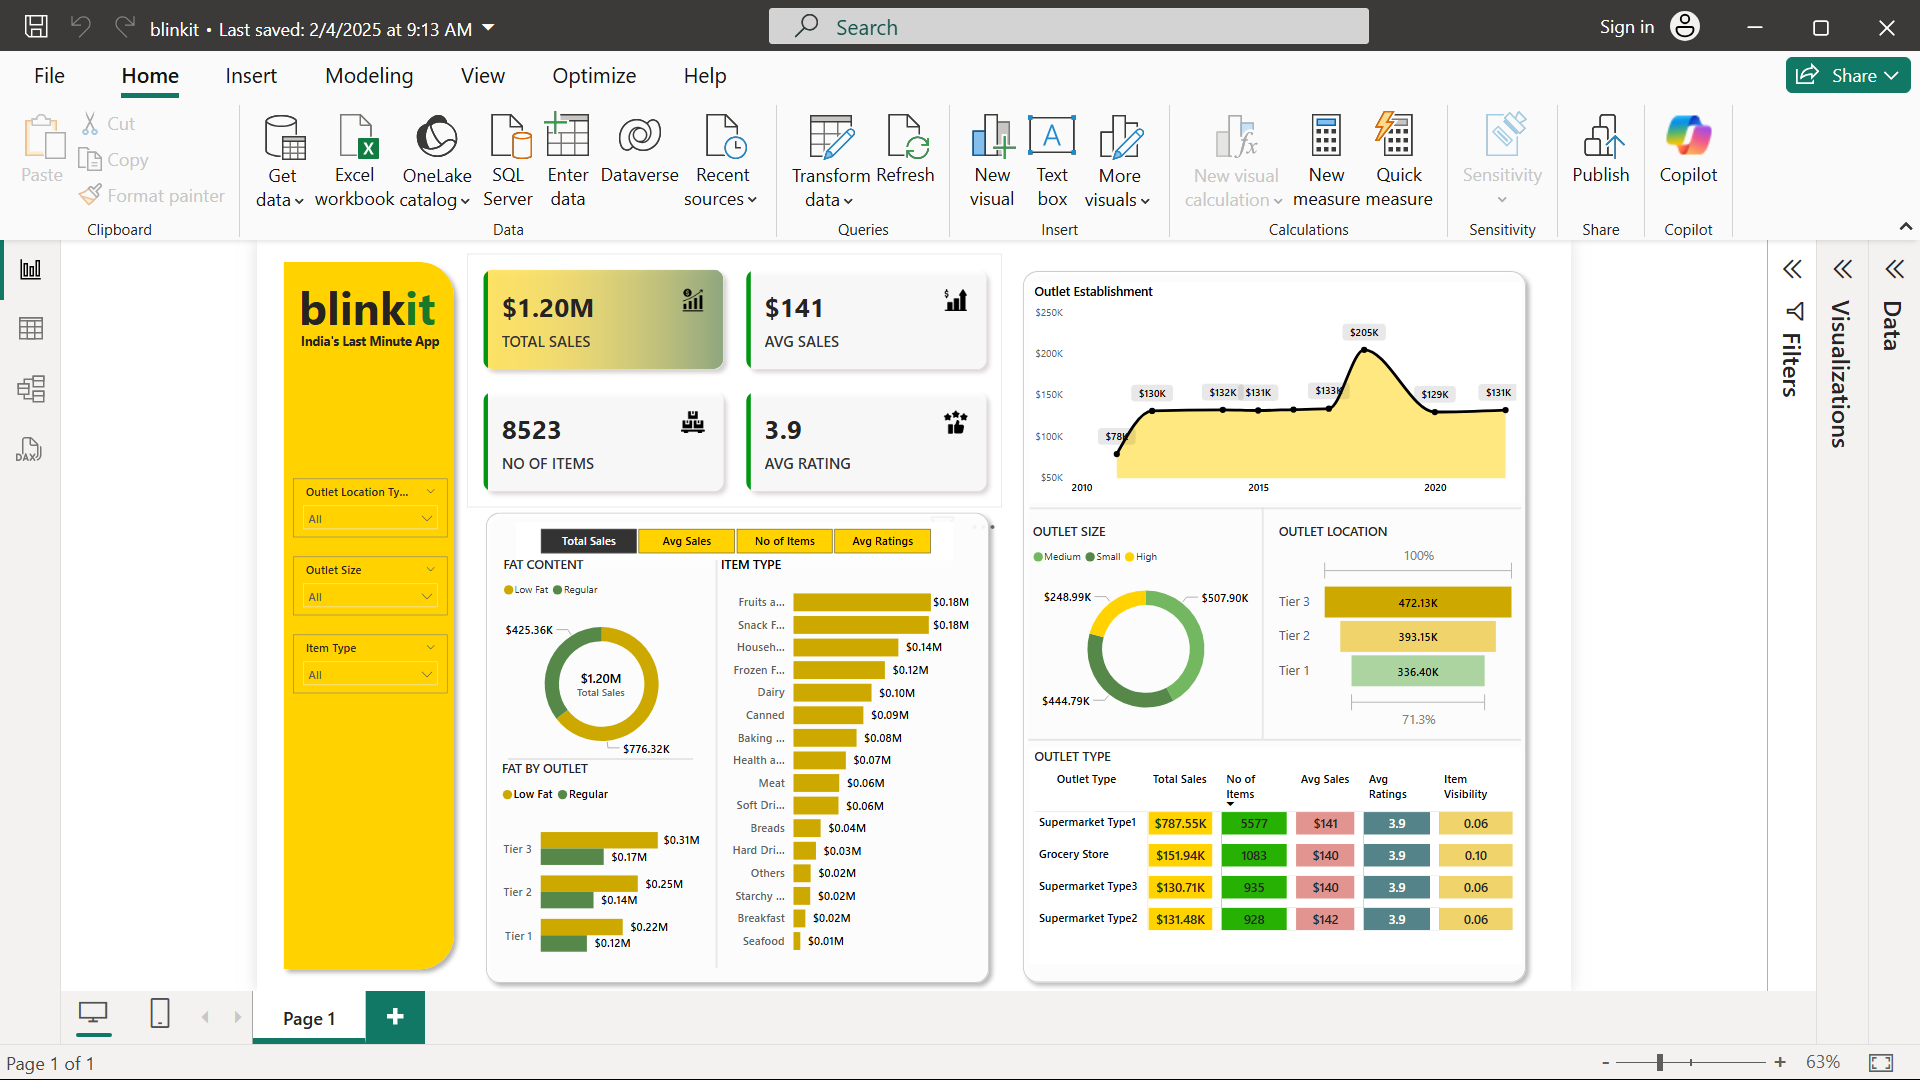

This screenshot's page, from the dashboard's own definition file:
{"tool":"powerbi","page":{"name":"Page 1","canvas":[1400,800],"ordinal":0},"visuals":[{"type":"shape","box":[19.5,15,199.6,771.4],"z":0},{"type":"textbox","box":[28.5,33,177.1,79.5],"z":1000},{"type":"textbox","box":[18,93.1,205.6,31.5],"z":2000},{"type":"cardVisual","fields":{"Data":["BlinkIT Grocery Data.m Total Sales","BlinkIT Grocery Data.m Avg Sales","BlinkIT Grocery Data.m No of Items","BlinkIT Grocery Data.m Avg Ratings"]},"box":[223.6,15,570.3,270.2],"z":3000},{"type":"shape","box":[235.6,280.7,553.8,519.3],"z":4000},{"type":"donutChart","title":"FAT CONTENT","fields":{"Y":["BlinkIT Grocery Data.Total Sales"],"Category":["BlinkIT Grocery Data.Item Fat Content"]},"box":[256.6,336.2,219.1,229.6],"z":5000},{"type":"slicer","fields":{"Values":["Metrices.Metrices"]},"box":[276.2,300.2,465.3,40.5],"z":6000},{"type":"cardVisual","fields":{"Data":["BlinkIT Grocery Data.Total Sales"]},"box":[313.7,439.8,106.6,58.5],"z":7000},{"type":"clusteredBarChart","title":"FAT BY OUTLET","fields":{"Y":["BlinkIT Grocery Data.Total Sales"],"Category":["BlinkIT Grocery Data.Outlet Location Type"],"Series":["BlinkIT Grocery Data.Item Fat Content"]},"box":[256.3,553.5,220.9,230.4],"z":8000},{"type":"shape","box":[267.2,540.3,198.1,25.5],"z":9000},{"type":"shape","box":[474.3,340.7,30,435.3],"z":10000},{"type":"barChart","title":"ITEM TYPE","fields":{"Y":["BlinkIT Grocery Data.Total Sales"],"Category":["BlinkIT Grocery Data.Item Type"]},"box":[489.3,336.2,274.7,435.3],"z":11000},{"type":"shape","box":[807.5,24,553.8,775.9],"z":12000},{"type":"lineChart","title":" Outlet Establishment","fields":{"Category":["BlinkIT Grocery Data.Outlet Establishment Year"],"Y":["BlinkIT Grocery Data.Total Sales"]},"box":[822.5,45,523.8,235.6],"z":13000},{"type":"shape","box":[822.5,271.7,523.8,28.5],"z":14000},{"type":"donutChart","title":"OUTLET SIZE","fields":{"Y":["BlinkIT Grocery Data.Total Sales"],"Category":["BlinkIT Grocery Data.Outlet Size"]},"box":[821,300.2,250.6,225.1],"z":15000},{"type":"shape","box":[1058.1,285.2,27,247.6],"z":16000},{"type":"funnel","title":"OUTLET LOCATION","fields":{"Y":["Sum(BlinkIT Grocery Data.Sales)"],"Category":["BlinkIT Grocery Data.Outlet Location Type"]},"box":[1083.6,300.2,262.7,225.1],"z":17000},{"type":"shape","box":[821,511.8,525.3,42],"z":18000},{"type":"pivotTable","title":"OUTLET TYPE","fields":{"Rows":["BlinkIT Grocery Data.Outlet Type"],"Values":["BlinkIT Grocery Data.Total Sales","BlinkIT Grocery Data.No of Items","BlinkIT Grocery Data.Avg Sales","BlinkIT Grocery Data.Avg Ratings","Avg(BlinkIT Grocery Data.Item Visibility)"]},"box":[822.5,540.3,523.8,231.1],"z":19000},{"type":"slicer","fields":{"Values":["BlinkIT Grocery Data.Outlet Location Type"]},"box":[38.2,253.6,165,62.7],"z":19001},{"type":"slicer","fields":{"Values":["BlinkIT Grocery Data.Item Type"]},"box":[38.2,419.9,165,62.7],"z":19002},{"type":"slicer","fields":{"Values":["BlinkIT Grocery Data.Outlet Size"]},"box":[38.2,336.7,165,62.7],"z":19003}]}

Visuals, with their boxes on the page's 1400x800 design canvas (x1, y1, x2, y2). These are canvas units, not pixel positions in the 1920x1080 screenshot, which may show the page scaled, cropped or inside an application window:
shape: [x1=20, y1=15, x2=219, y2=786]
textbox: [x1=28, y1=33, x2=206, y2=112]
textbox: [x1=18, y1=93, x2=224, y2=125]
cardVisual - BlinkIT Grocery Data.m Total Sales x BlinkIT Grocery Data.m Avg Sales: [x1=224, y1=15, x2=794, y2=285]
shape: [x1=236, y1=281, x2=789, y2=800]
"FAT CONTENT" donutChart: [x1=257, y1=336, x2=476, y2=566]
slicer - Metrices.Metrices: [x1=276, y1=300, x2=742, y2=341]
cardVisual - BlinkIT Grocery Data.Total Sales: [x1=314, y1=440, x2=420, y2=498]
"FAT BY OUTLET" clusteredBarChart: [x1=256, y1=554, x2=477, y2=784]
shape: [x1=267, y1=540, x2=465, y2=566]
shape: [x1=474, y1=341, x2=504, y2=776]
"ITEM TYPE" barChart: [x1=489, y1=336, x2=764, y2=772]
shape: [x1=808, y1=24, x2=1361, y2=800]
" Outlet Establishment" lineChart: [x1=822, y1=45, x2=1346, y2=281]
shape: [x1=822, y1=272, x2=1346, y2=300]
"OUTLET SIZE" donutChart: [x1=821, y1=300, x2=1072, y2=525]
shape: [x1=1058, y1=285, x2=1085, y2=533]
"OUTLET LOCATION" funnel: [x1=1084, y1=300, x2=1346, y2=525]
shape: [x1=821, y1=512, x2=1346, y2=554]
"OUTLET TYPE" pivotTable: [x1=822, y1=540, x2=1346, y2=771]
slicer - BlinkIT Grocery Data.Outlet Location Type: [x1=38, y1=254, x2=203, y2=316]
slicer - BlinkIT Grocery Data.Item Type: [x1=38, y1=420, x2=203, y2=483]
slicer - BlinkIT Grocery Data.Outlet Size: [x1=38, y1=337, x2=203, y2=399]
